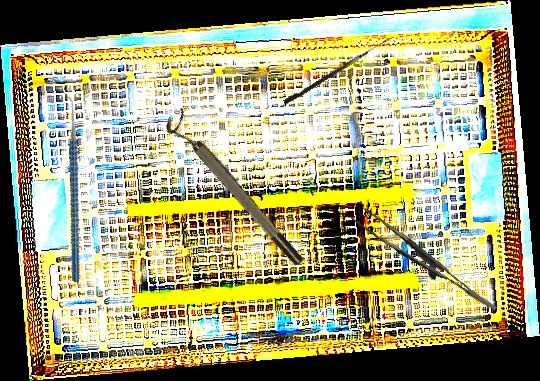Chopper: (6, 91, 133, 283)
Fixation Ring: (161, 107, 307, 275)
Hook Surgical: (283, 32, 392, 107)
Tissue Forceps: (350, 193, 498, 333)
